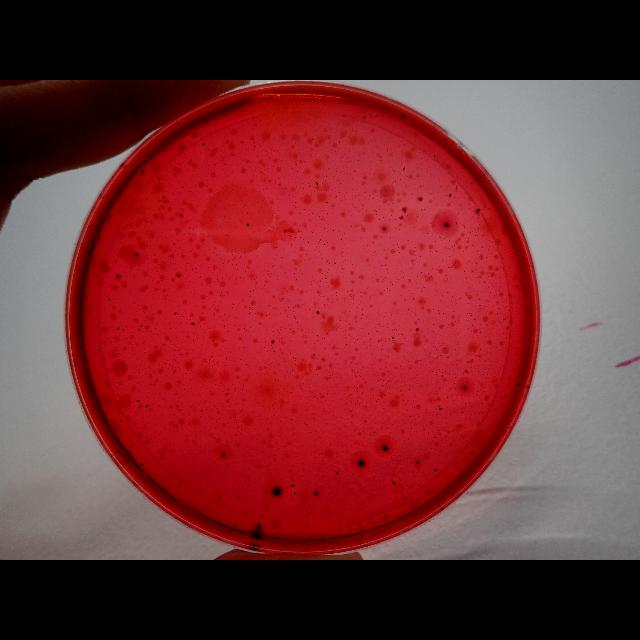colony: (271, 482, 281, 502), (355, 456, 367, 470), (380, 440, 390, 456), (218, 448, 228, 459), (138, 458, 146, 469), (255, 520, 262, 532), (114, 444, 120, 458), (99, 414, 107, 424), (132, 396, 142, 404), (460, 383, 468, 392), (143, 402, 151, 410), (118, 416, 125, 424), (115, 272, 122, 280), (160, 194, 167, 202), (444, 220, 451, 228), (334, 469, 340, 477), (432, 466, 438, 474), (270, 338, 276, 346), (314, 180, 320, 188), (475, 206, 481, 214), (400, 112, 406, 120), (314, 489, 318, 498), (414, 459, 420, 465), (436, 502, 442, 508), (437, 406, 443, 412), (414, 326, 420, 332), (190, 320, 196, 326), (173, 311, 179, 317), (134, 252, 140, 258), (178, 212, 184, 218), (417, 196, 423, 202), (447, 192, 453, 198), (224, 390, 230, 396), (200, 141, 206, 147), (140, 169, 146, 175), (361, 114, 367, 120), (516, 380, 520, 388), (116, 325, 120, 333), (484, 202, 488, 210), (180, 144, 184, 152), (392, 479, 396, 486), (290, 483, 294, 489), (97, 347, 101, 353), (106, 298, 112, 302), (246, 222, 250, 228), (382, 226, 386, 232), (402, 166, 406, 172), (454, 184, 458, 190), (507, 292, 511, 298), (496, 300, 500, 306), (194, 134, 198, 140), (202, 116, 206, 122), (176, 274, 182, 278), (293, 491, 297, 495), (316, 310, 320, 314), (138, 324, 142, 328), (528, 308, 532, 312), (176, 122, 180, 126), (400, 216, 404, 220), (402, 207, 404, 211)
